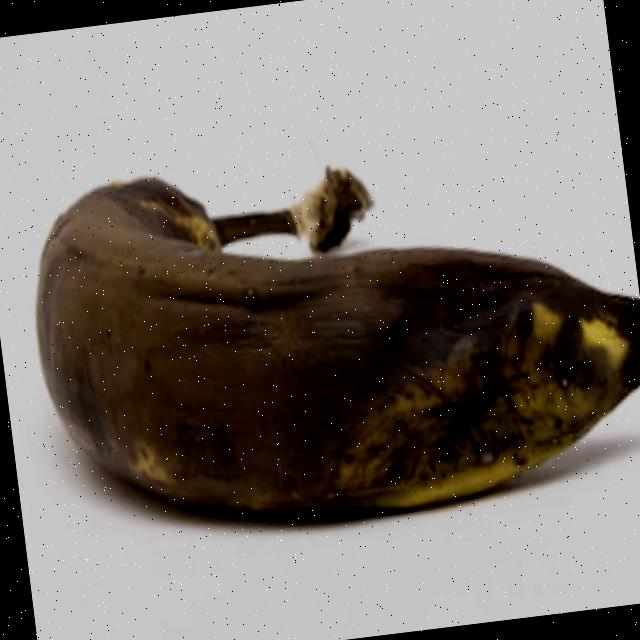Rotten: (0, 75, 640, 582)
